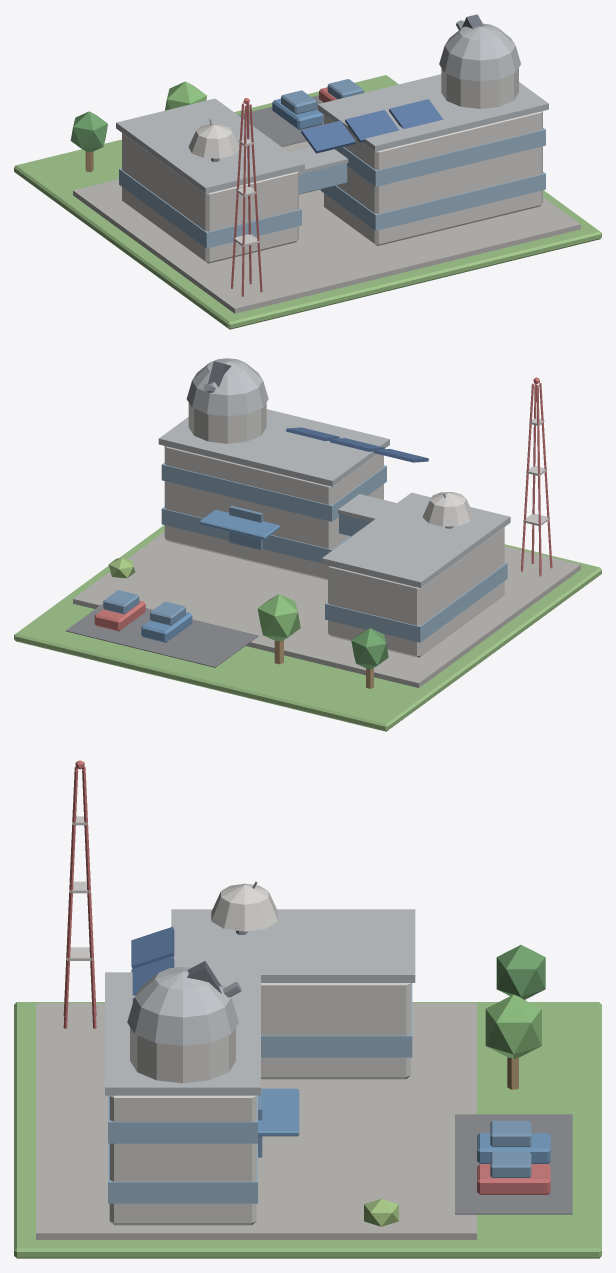
The model's file is publicos__centro_pesquisa.glb.
3 views of the same model, one above another, from view 1: azimuth 30°, elevation 25°; view 2: azimuth 150°, elevation 25°; view 3: azimuth 270°, elevation 25° (orthographic). The views are drawn at different scales.
Parts seen in each view (by area): view 1: publicos__centro_pesquisa; view 2: publicos__centro_pesquisa; view 3: publicos__centro_pesquisa.
Boxes of the visible parts, box(x1,y1,x2,y2) form: publicos__centro_pesquisa: box(14, 14, 601, 329); publicos__centro_pesquisa: box(14, 358, 601, 731); publicos__centro_pesquisa: box(14, 760, 601, 1258).
Size of the model in its own units: 4 by 2.1 by 4.
